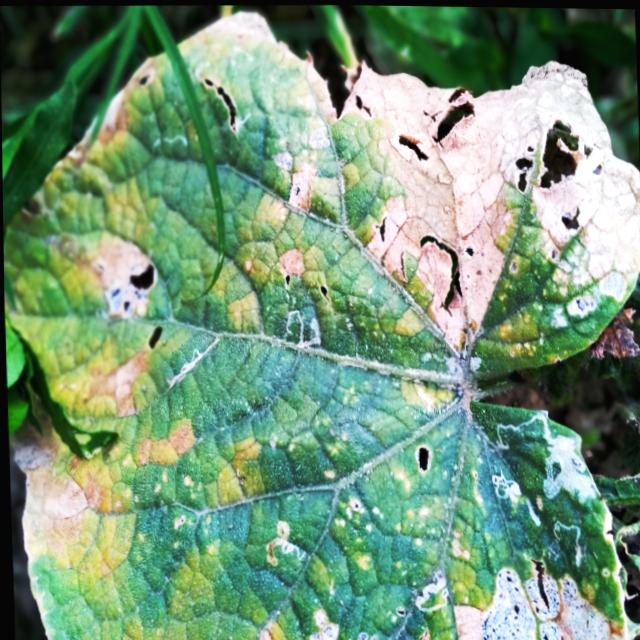Anthracnose: (513, 117, 607, 235), (395, 84, 479, 166), (106, 258, 165, 350), (413, 433, 432, 479)
